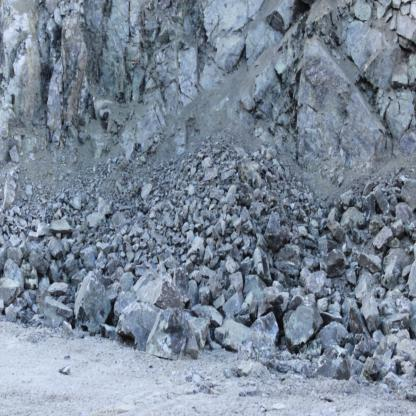stone: (144, 306, 198, 363), (116, 296, 163, 355), (73, 272, 112, 336), (237, 312, 280, 369), (282, 301, 324, 354), (355, 268, 380, 333), (313, 346, 353, 381), (264, 210, 293, 253), (43, 294, 74, 331), (348, 300, 371, 337), (303, 270, 332, 299), (251, 247, 272, 287), (320, 250, 348, 278), (356, 249, 383, 278), (375, 188, 393, 224), (0, 277, 23, 304), (400, 178, 416, 212), (404, 259, 416, 298), (48, 235, 63, 261), (48, 219, 73, 234), (46, 280, 68, 297), (230, 271, 245, 293), (197, 287, 212, 308), (351, 228, 367, 247), (5, 303, 18, 322), (61, 255, 75, 272), (98, 197, 110, 216), (69, 191, 81, 210)
